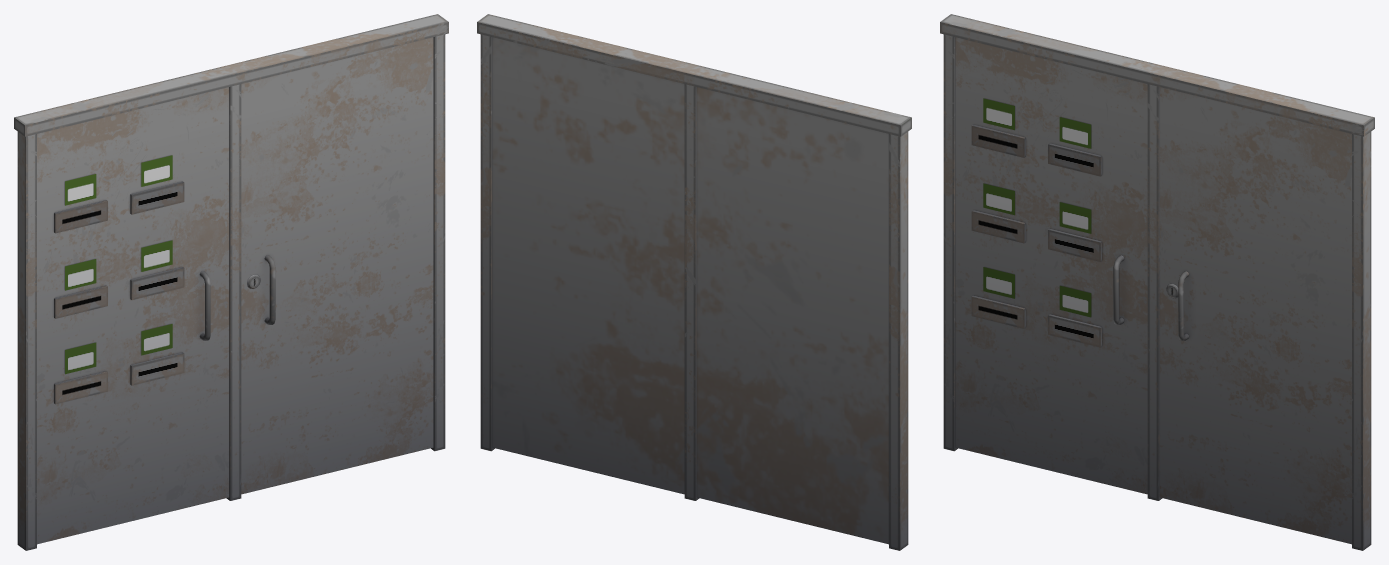
File: IronDoor_v3.fbx
The picture shows the model from 3 angles, left to right: view 1: azimuth 30°, elevation 25°; view 2: azimuth 150°, elevation 25°; view 3: azimuth 330°, elevation 25°; orthographic projection.
Visible parts, largest first — view 1: IronDoor_v3; view 2: IronDoor_v3; view 3: IronDoor_v3.
Part boxes in pixels (x1,y1,x2,y2): IronDoor_v3: (14,14,448,550); IronDoor_v3: (477,14,911,550); IronDoor_v3: (940,14,1374,550).
Size of the model in its own units: 254 by 245 by 16.39.
